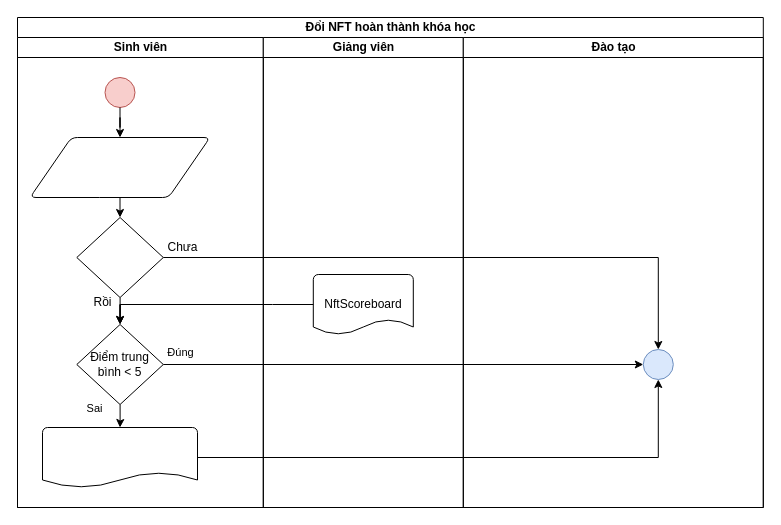
This 781x525 diagram has some shape labels left out. Here are the shapes that lost their labels. From the top down, the centre of each, then its label:
At point 119,167: "NftCourseRegistration".
At point 119,257: "Đã kết thúc môn học".
At point 120,457: "NftCourseCompletion".
